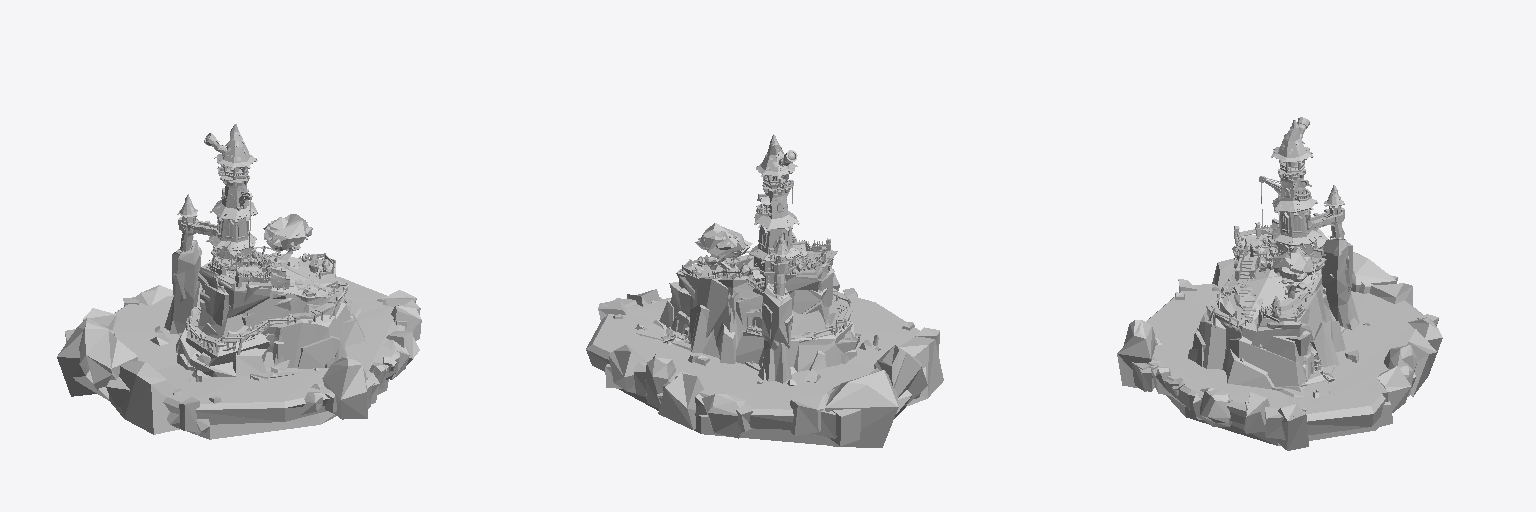
Rendered from tower.obj.
3 renders of one model, left to right at view 1: azimuth 30°, elevation 25°; view 2: azimuth 150°, elevation 25°; view 3: azimuth 270°, elevation 25°, orthographic.
Visible parts, largest first — view 1: group[number redacted], group[number redacted], group[number redacted], group[number redacted], group[number redacted], group[number redacted], group[number redacted], group[number redacted], group[number redacted], group[number redacted], group[number redacted], group[number redacted] (+7 smaller); view 2: group[number redacted], group[number redacted], group[number redacted], group[number redacted], group[number redacted], group[number redacted], group[number redacted], group[number redacted], group[number redacted], group[number redacted], group[number redacted], group[number redacted] (+11 smaller); view 3: group[number redacted], group[number redacted], group[number redacted], group[number redacted], group[number redacted], group[number redacted], group[number redacted], group[number redacted], group[number redacted], group[number redacted], group[number redacted], group[number redacted] (+13 smaller).
Part boxes in pixels (x1,y1,x2,y2): group[number redacted]: (112, 277, 404, 424); group[number redacted]: (186, 261, 289, 369); group[number redacted]: (109, 361, 179, 434); group[number redacted]: (79, 323, 137, 390); group[number redacted]: (322, 357, 367, 419); group[number redacted]: (259, 314, 346, 367); group[number redacted]: (170, 240, 200, 333); group[number redacted]: (237, 251, 340, 326); group[number redacted]: (187, 379, 388, 439); group[number redacted]: (57, 317, 114, 396); group[number redacted]: (298, 336, 345, 368); group[number redacted]: (214, 124, 257, 179); group[number redacted]: (586, 292, 919, 429); group[number redacted]: (825, 370, 898, 447); group[number redacted]: (702, 251, 854, 366); group[number redacted]: (658, 373, 703, 429); group[number redacted]: (874, 345, 927, 405); group[number redacted]: (762, 283, 791, 381); group[number redacted]: (670, 258, 759, 354); group[number redacted]: (619, 389, 832, 445); group[number redacted]: (899, 336, 943, 406); group[number redacted]: (702, 394, 745, 438); group[number redacted]: (688, 276, 728, 343); group[number redacted]: (790, 394, 825, 435); group[number redacted]: (1145, 284, 1422, 434); group[number redacted]: (1217, 268, 1334, 368); group[number redacted]: (1322, 239, 1359, 328); group[number redacted]: (1222, 336, 1305, 386); group[number redacted]: (1117, 320, 1155, 388); group[number redacted]: (1198, 310, 1225, 369); group[number redacted]: (1362, 366, 1410, 412); group[number redacted]: (1273, 404, 1308, 450); group[number redacted]: (1251, 306, 1311, 348); group[number redacted]: (1226, 349, 1274, 388); group[number redacted]: (1166, 395, 1377, 445); group[number redacted]: (1271, 120, 1313, 169).
Size of the model in its own units: 6.51 by 4.9 by 5.57.